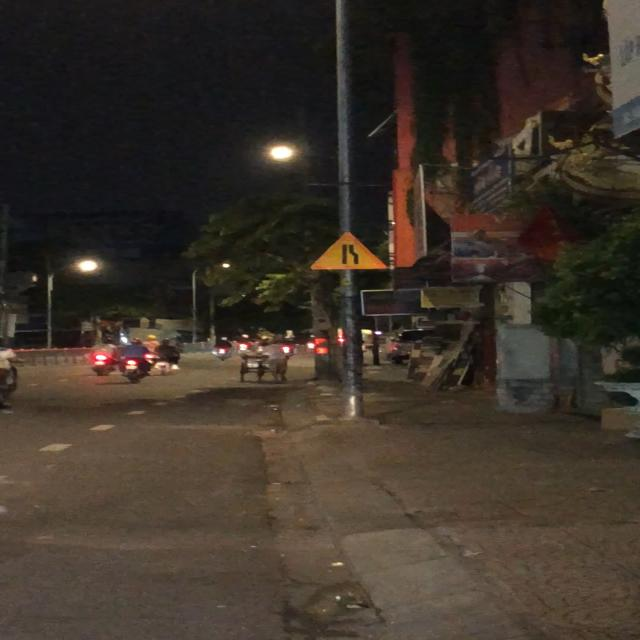Bien bao duong bi thu hep: (305, 230, 392, 271)
